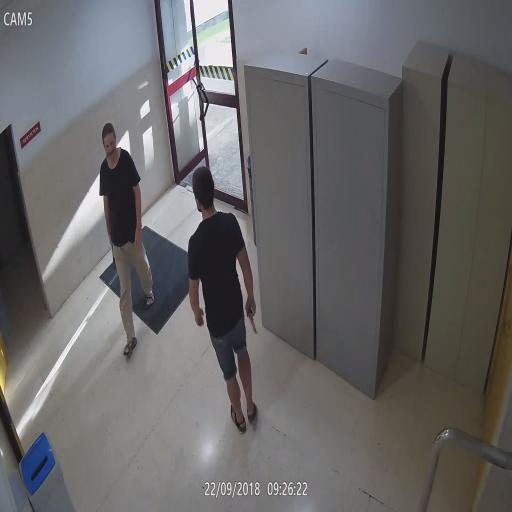Handgun: (242, 294, 259, 334)
